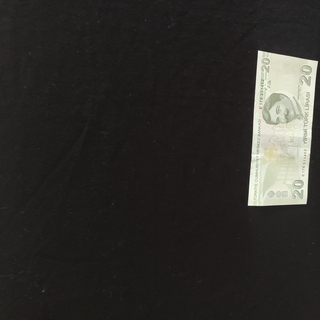20TLBack: (247, 49, 318, 209)
